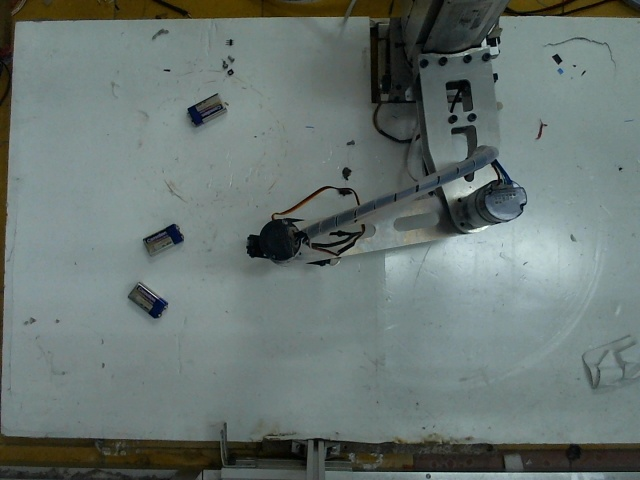battery: (185, 88, 227, 128), (124, 276, 168, 314), (142, 219, 183, 254)
